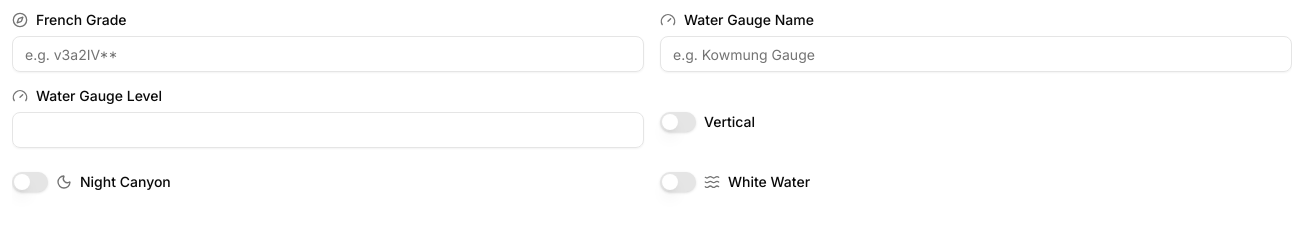
Test: CanyoningTypeEditor › clears stale French grade data when the current input becomes invalid
Type "v3a2iv**" into the field with test id "french-grade-input" at {"x": 328, "y": 54}, box [12,36,644,72]
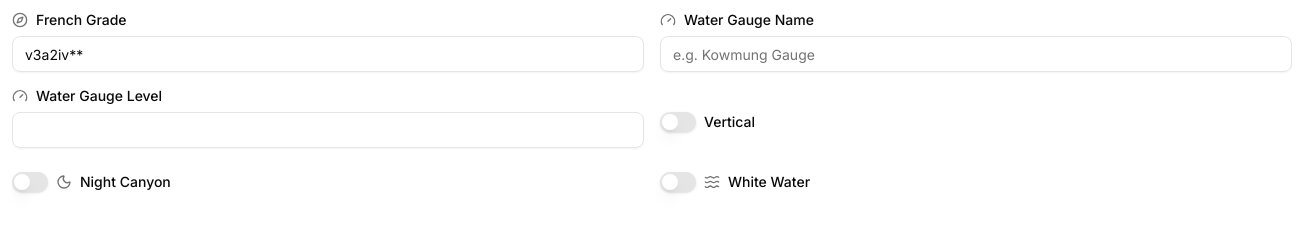
Replace the text in the field with test id "french-grade-input" with "bad-grade" at {"x": 328, "y": 54}, box [12,36,644,72]
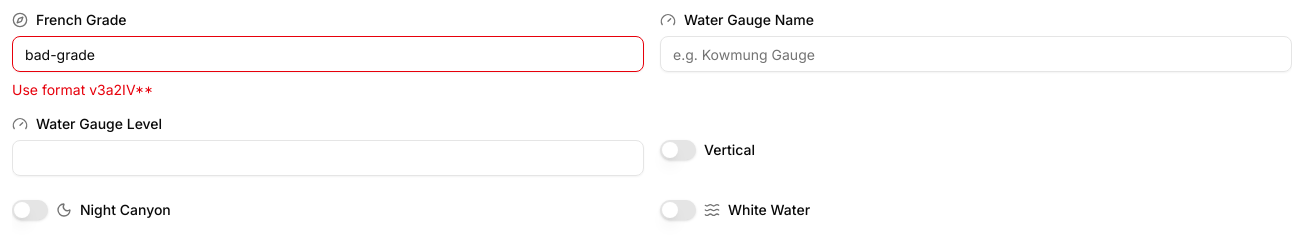
Expected: the text "Use format v3a2IV**" is shown, [12,81,153,98]
